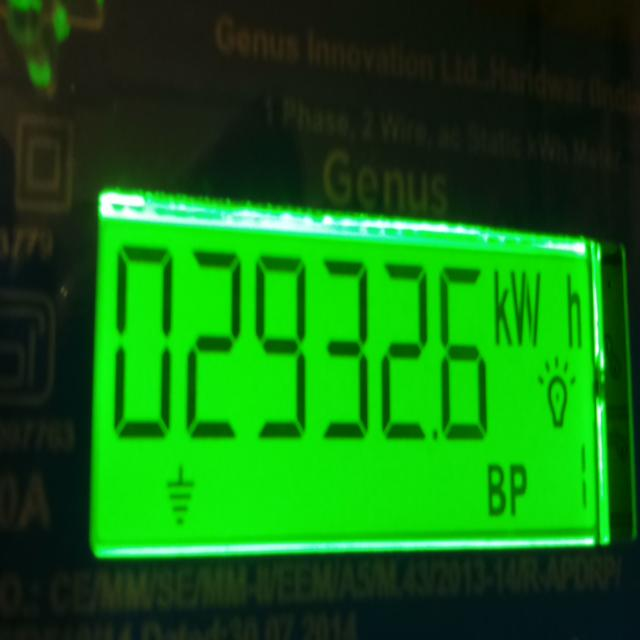.: (436, 422, 440, 443)
0: (116, 243, 174, 441)
2: (189, 252, 241, 442), (382, 266, 428, 444)
3: (321, 254, 369, 438)
6: (441, 267, 486, 439)
9: (254, 254, 308, 441)
